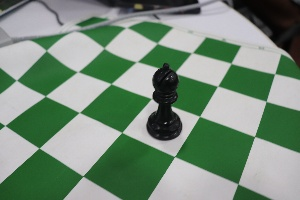black_bishop: (142, 56, 186, 145)
